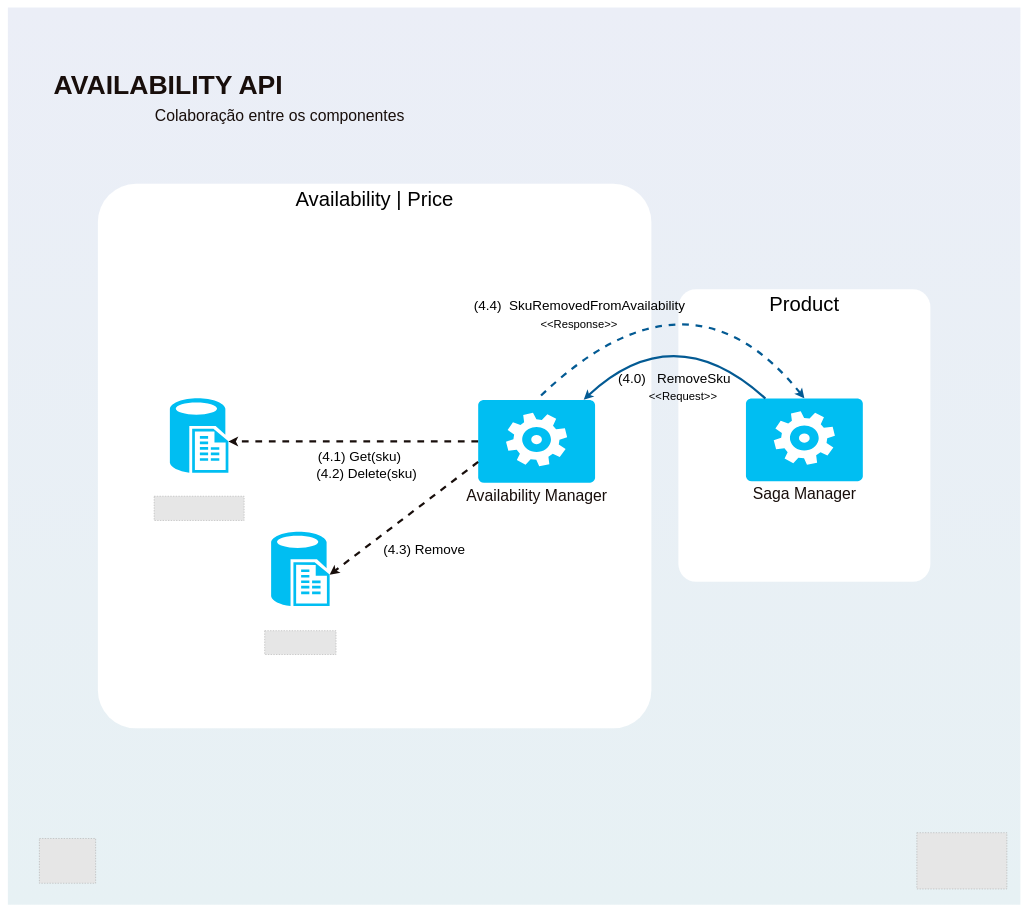
Image size: 1028x913. Some labels were removed from this diagram. Grey dashed boxes stand in for pictures. Here are the shapes that lost their labels. From the top down, the centre of each, then its label:
(199,435): products transient
(300,568): cache (cash|points)
